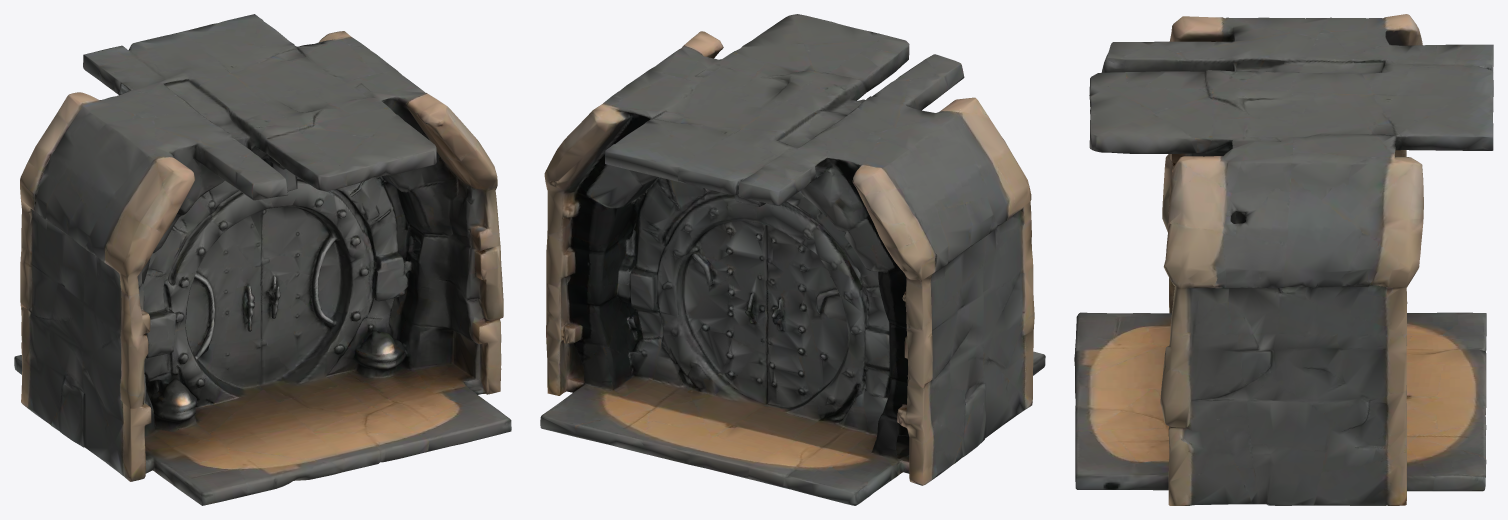
File: bunker.glb
The picture shows the model from 3 angles, left to right: view 1: azimuth 30°, elevation 25°; view 2: azimuth 150°, elevation 25°; view 3: azimuth 270°, elevation 25°; orthographic projection. The views are drawn at different scales.
Bounding box in the file's own units: 2 × 1.53 × 1.79.
Materials: 1 (1 with a texture image).
